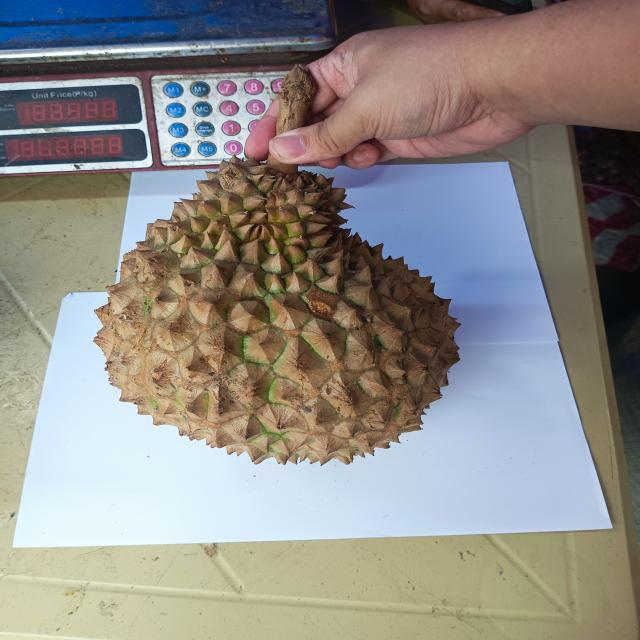mature: (94, 156, 459, 465)
